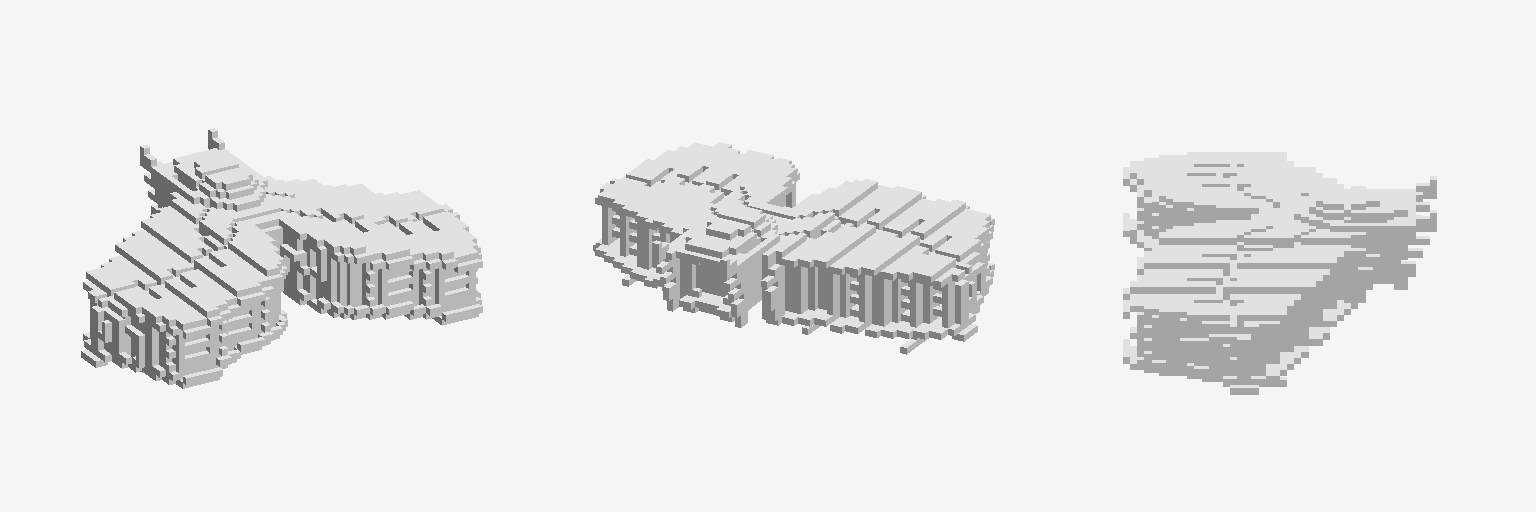
The model's file is Extra-11-UVintruder_Body.obj.
3 renders of one model, left to right at view 1: azimuth 30°, elevation 25°; view 2: azimuth 150°, elevation 25°; view 3: azimuth 270°, elevation 25°, orthographic.
Parts seen in each view (by area): view 1: UVintruder_Body; view 2: UVintruder_Body; view 3: UVintruder_Body.
Part boxes in pixels (x1,y1,x2,y2): UVintruder_Body: (81, 128, 482, 388); UVintruder_Body: (593, 142, 994, 354); UVintruder_Body: (1123, 152, 1436, 394).
Size of the model in its own units: 6 by 1.9 by 4.4.